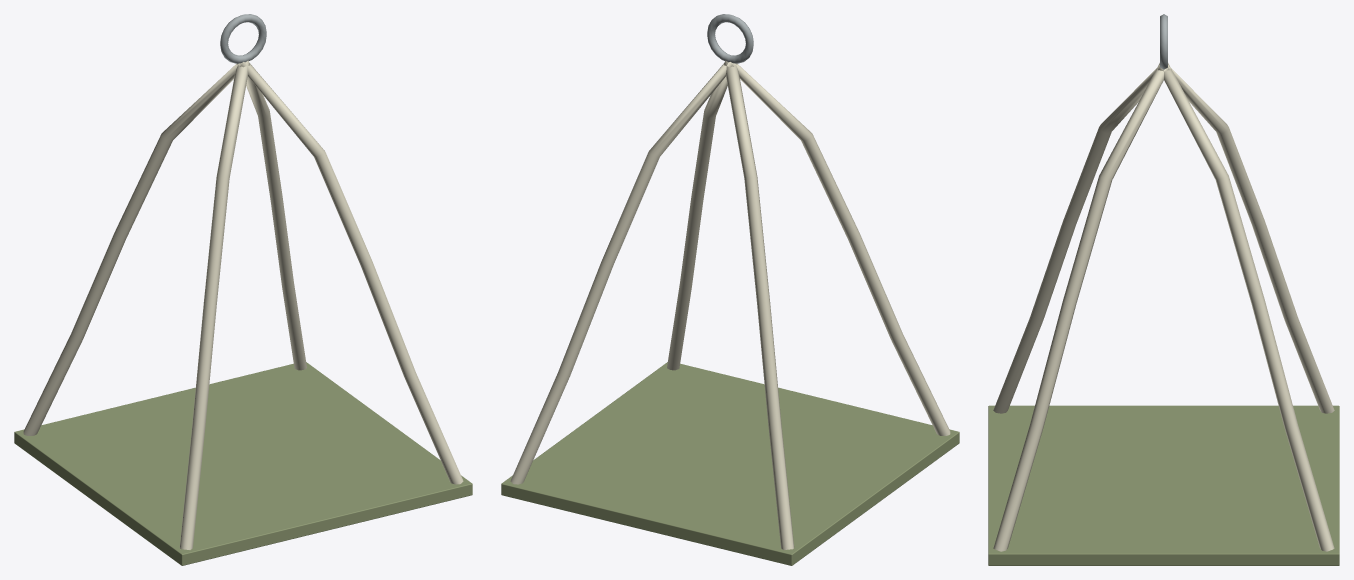
File: extraction-routes-and-objectives-pickup-cargo-sling-574e943c__22174.glb
The picture shows the model from 3 angles, left to right: view 1: azimuth 30°, elevation 25°; view 2: azimuth 150°, elevation 25°; view 3: azimuth 270°, elevation 25°; orthographic projection. The views are drawn at different scales.
Visible parts, largest first — view 1: pickup-cargo-sling; view 2: pickup-cargo-sling; view 3: pickup-cargo-sling.
Part boxes in pixels (x1,y1,x2,y2): pickup-cargo-sling: (14, 14, 472, 565); pickup-cargo-sling: (501, 14, 959, 565); pickup-cargo-sling: (988, 14, 1339, 565).
Size of the model in its own units: 0.9 by 1.34 by 0.9.
